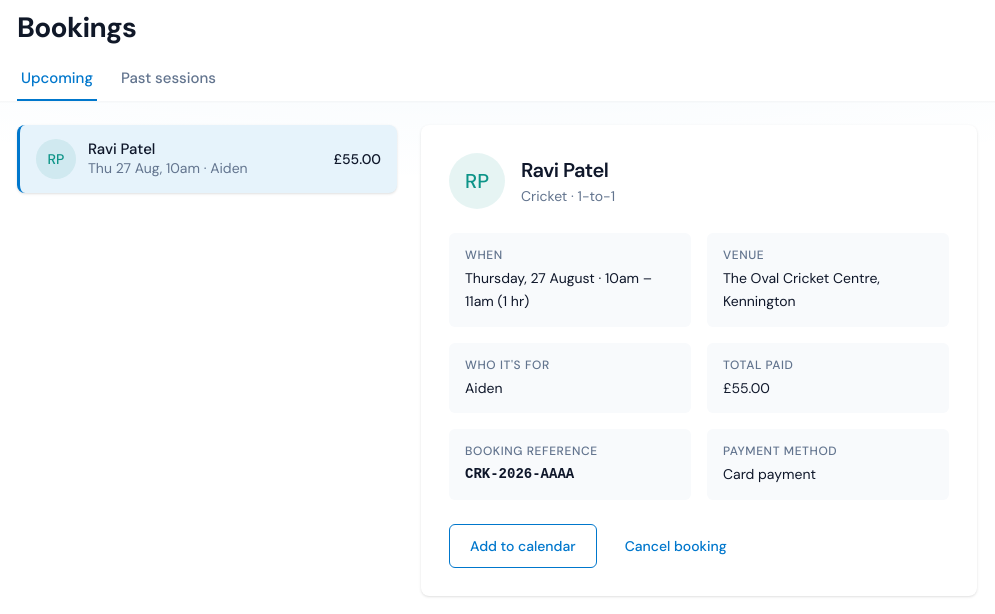
Test: ParentBookingsClient › shows the past empty state without a CTA
Click the tab "Past sessions" at coordinates (168, 79), box [117, 57, 220, 101]
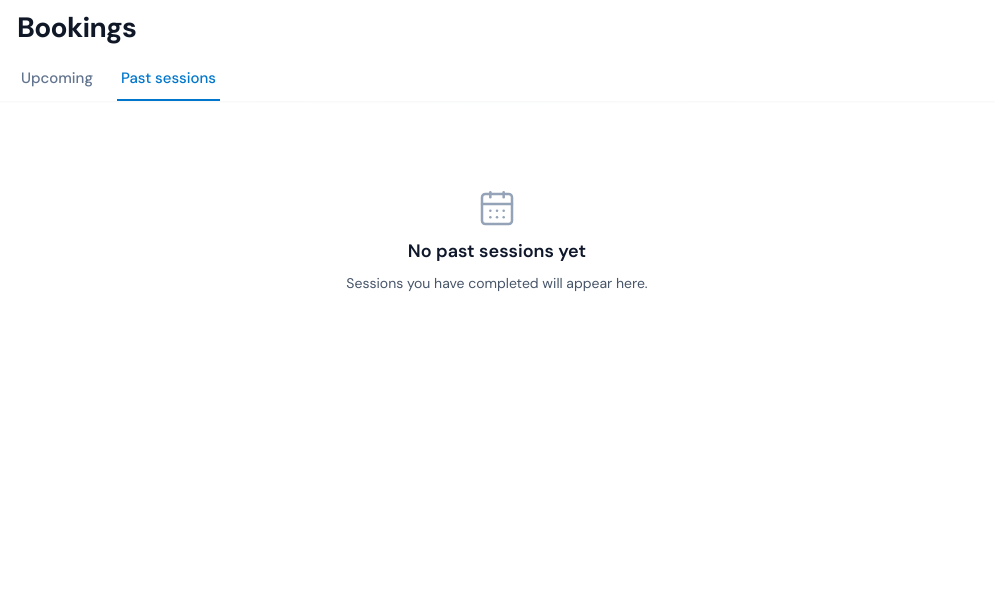
expect the heading "No past sessions yet" is shown: met, box [408, 237, 586, 265]
